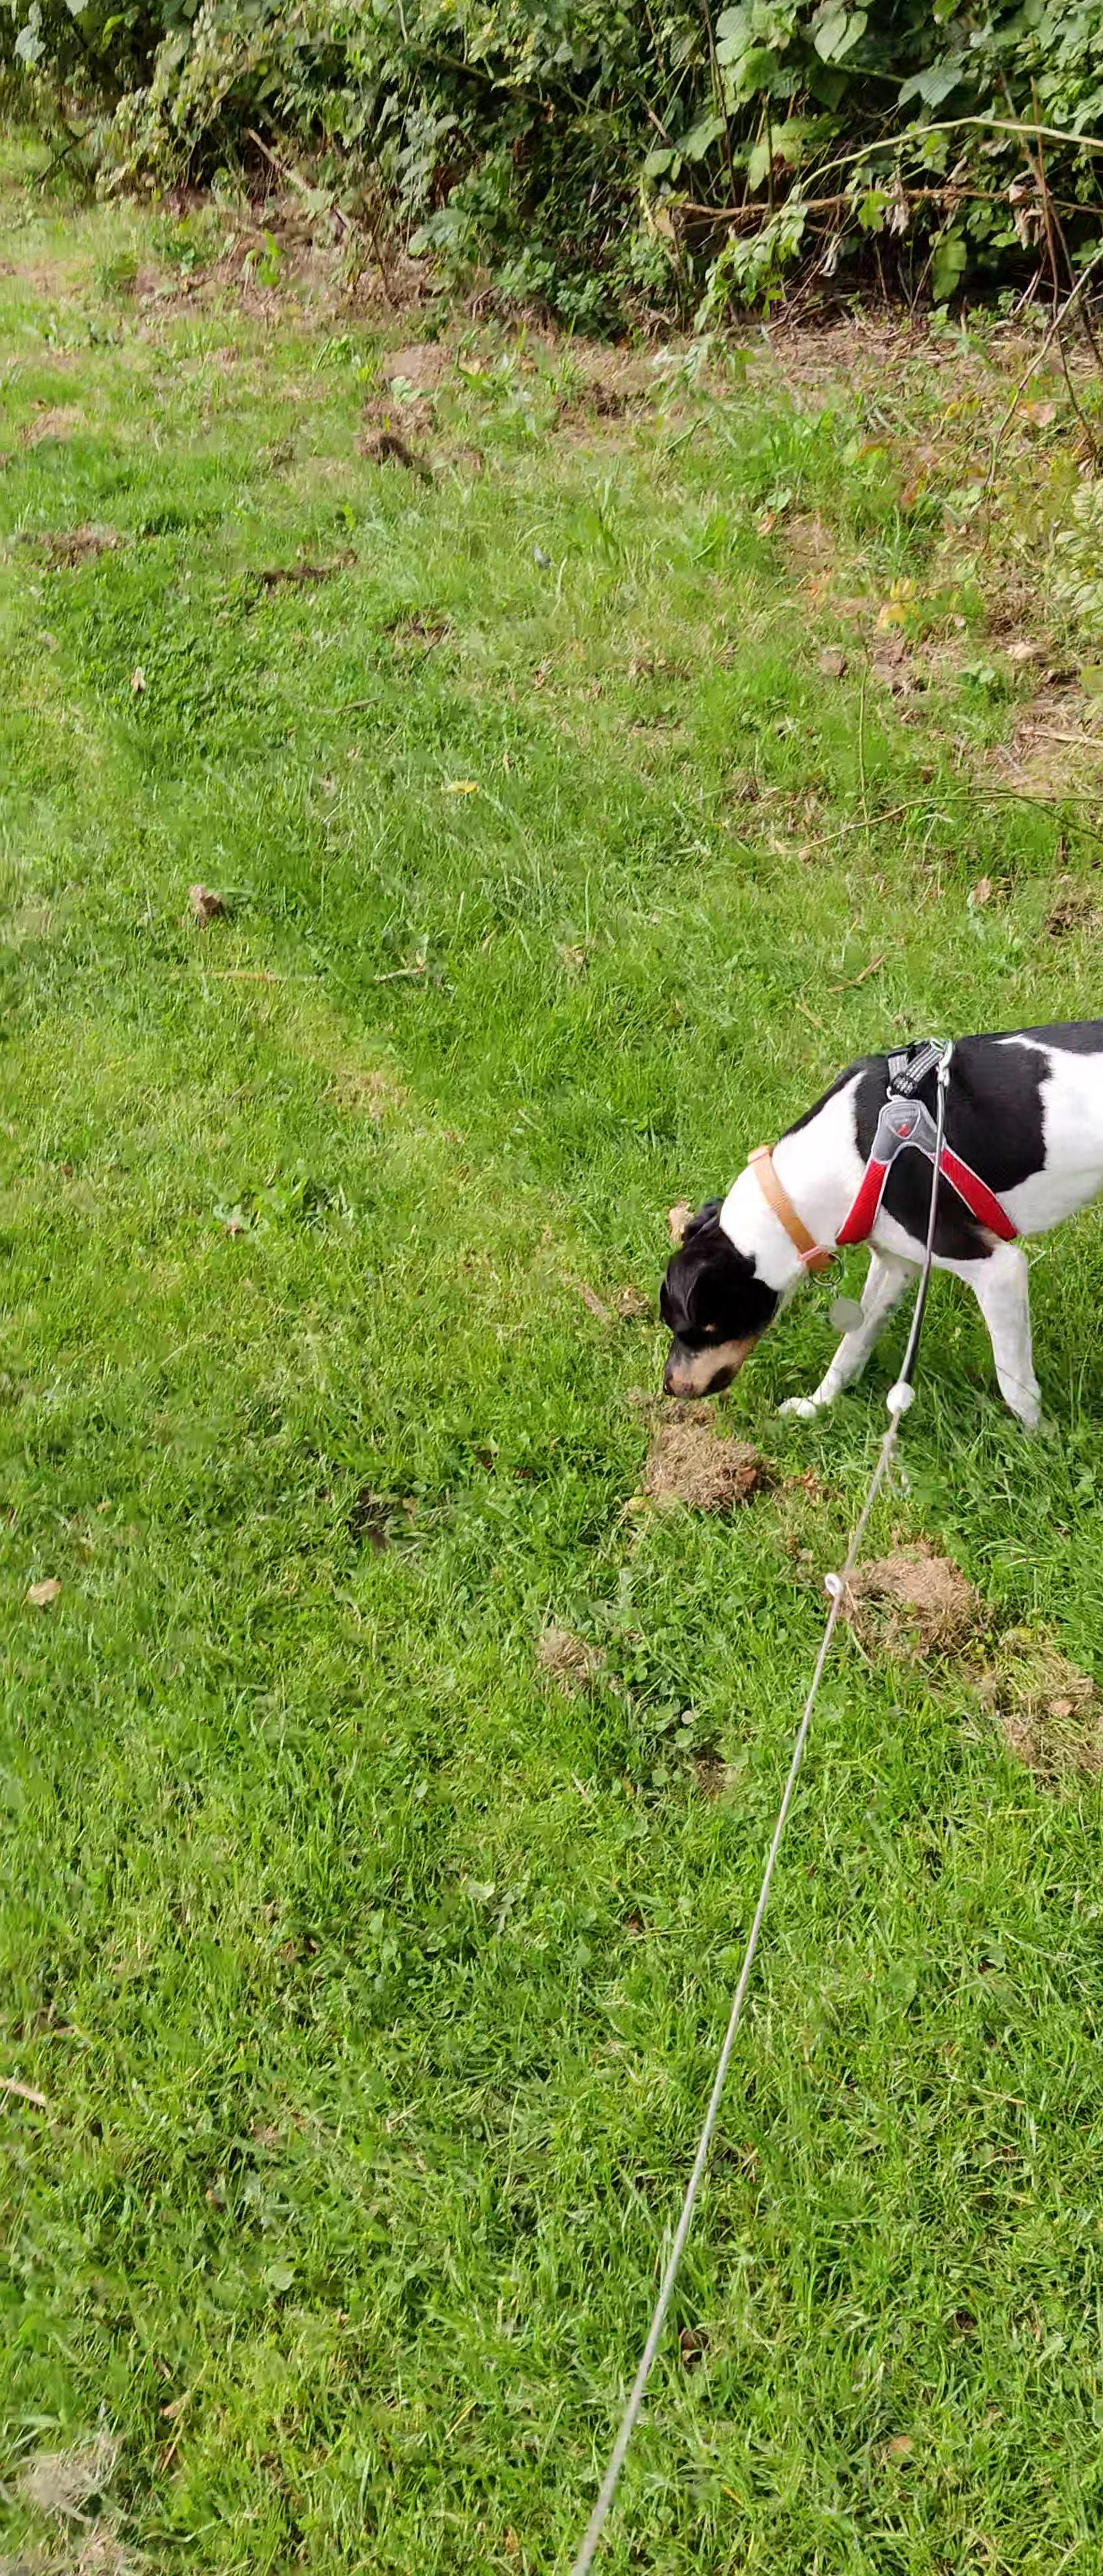Dog: (631, 1000, 1103, 1429)
